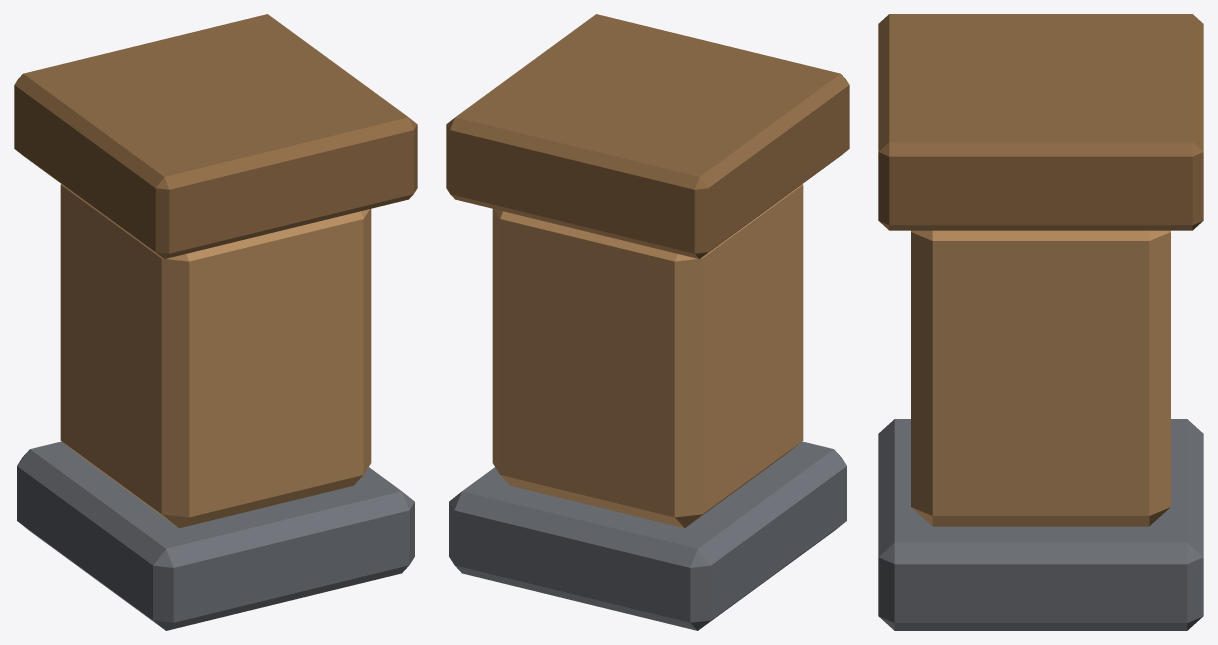
The model's file is pilier_bois_seul.glb.
3 views of the same model, side by side, from view 1: azimuth 30°, elevation 25°; view 2: azimuth 150°, elevation 25°; view 3: azimuth 270°, elevation 25° (orthographic). The views are drawn at different scales.
Parts seen in each view (by area): view 1: pilier_bois_seul_planche.002, pilier_bois_seul_planche_sombre.002, pilier_bois_seul_moellon_sombre.002; view 2: pilier_bois_seul_planche.002, pilier_bois_seul_planche_sombre.002, pilier_bois_seul_moellon_sombre.002; view 3: pilier_bois_seul_planche.002, pilier_bois_seul_planche_sombre.002, pilier_bois_seul_moellon_sombre.002.
Boxes of the visible parts, x1,y1,x2,y2 form: pilier_bois_seul_planche.002: [60, 184, 371, 528]; pilier_bois_seul_planche_sombre.002: [14, 14, 417, 258]; pilier_bois_seul_moellon_sombre.002: [17, 441, 414, 630]; pilier_bois_seul_planche.002: [492, 184, 803, 528]; pilier_bois_seul_planche_sombre.002: [446, 14, 849, 258]; pilier_bois_seul_moellon_sombre.002: [449, 441, 846, 630]; pilier_bois_seul_planche.002: [911, 230, 1170, 526]; pilier_bois_seul_planche_sombre.002: [878, 14, 1203, 230]; pilier_bois_seul_moellon_sombre.002: [878, 419, 1203, 630].
Size of the model in its own units: 0.3 by 0.5 by 0.3.
